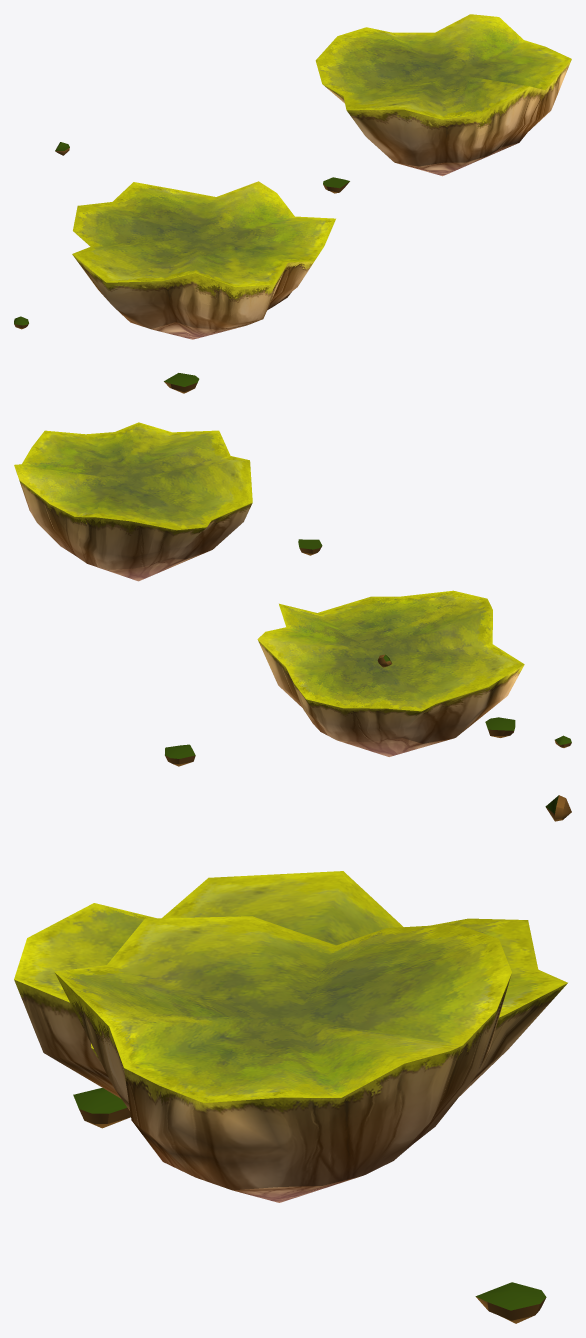
File: Islas flotantes.FBX
3 renders of one model, top to bottom at view 1: azimuth 30°, elevation 25°; view 2: azimuth 150°, elevation 25°; view 3: azimuth 270°, elevation 25°, orthographic. The views are drawn at different scales.
Parts seen in each view (by area): view 1: tierra_, tierra_001, Box002; view 2: tierra_, tierra_001, Box001, Box002; view 3: tierra_001, tierra_, Box001, Box002.
Part boxes in pixels (bbox=[...]): tierra_: bbox=[72, 181, 335, 339]; tierra_001: bbox=[315, 14, 571, 176]; Box002: bbox=[164, 373, 199, 393]; tierra_: bbox=[257, 590, 524, 756]; tierra_001: bbox=[14, 422, 252, 581]; Box001: bbox=[165, 744, 195, 766]; Box002: bbox=[485, 717, 515, 737]; tierra_001: bbox=[54, 916, 511, 1202]; tierra_: bbox=[14, 871, 567, 1098]; Box001: bbox=[475, 1282, 546, 1323]; Box002: bbox=[73, 1088, 130, 1128].
Size of the model in its own units: 120 by 48.32 by 55.63.
3 materials, 1 textured.
